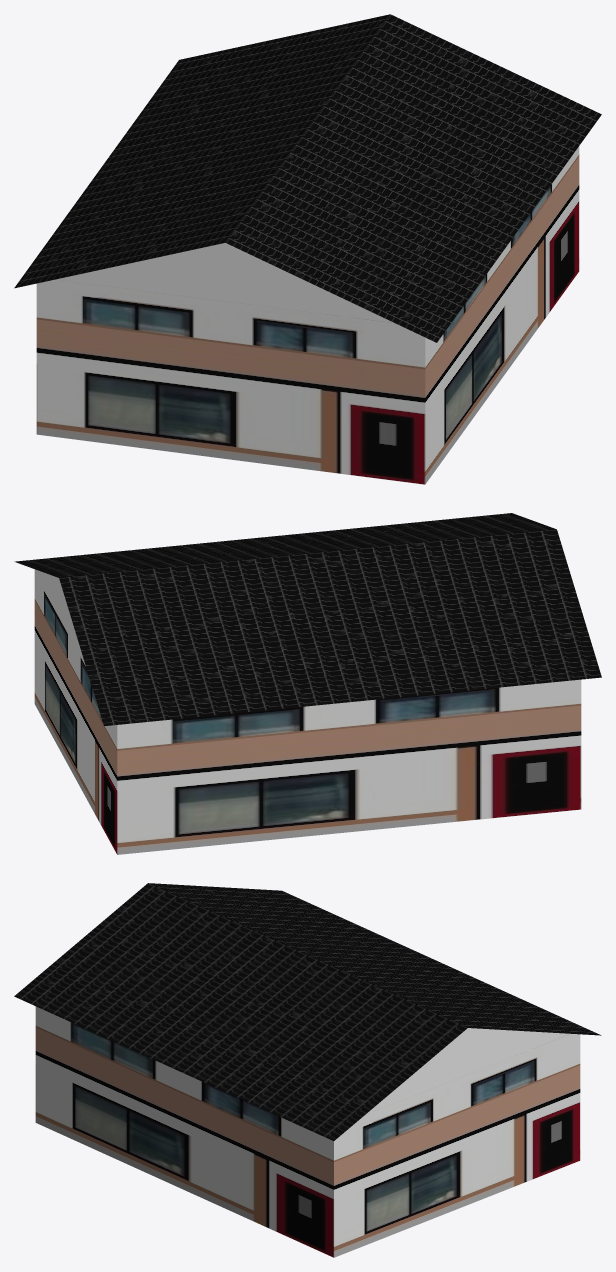
3 renders of one model, top to bottom at view 1: azimuth 30°, elevation 25°; view 2: azimuth 150°, elevation 25°; view 3: azimuth 270°, elevation 25°, orthographic. The views are drawn at different scales.
Visible parts, largest first — view 1: CityEngineMaterial_14_m, CityEngineMaterial_5_m, CityEngineMaterial_3_m; view 2: CityEngineMaterial_14_m, CityEngineMaterial_5_m, CityEngineMaterial_3_m; view 3: CityEngineMaterial_14_m, CityEngineMaterial_5_m, CityEngineMaterial_3_m.
Boxes of the visible parts, x1,y1,x2,y2 form: CityEngineMaterial_14_m: (14,14,601,342); CityEngineMaterial_5_m: (36,146,579,484); CityEngineMaterial_3_m: (56,243,393,322); CityEngineMaterial_14_m: (14,513,601,726); CityEngineMaterial_5_m: (34,569,581,854); CityEngineMaterial_3_m: (40,571,77,639); CityEngineMaterial_14_m: (14,883,601,1140); CityEngineMaterial_5_m: (35,1006,580,1257); CityEngineMaterial_3_m: (366,1028,570,1114).
Bounding box in the file's own units: 37.31 × 12.93 × 36.99.
